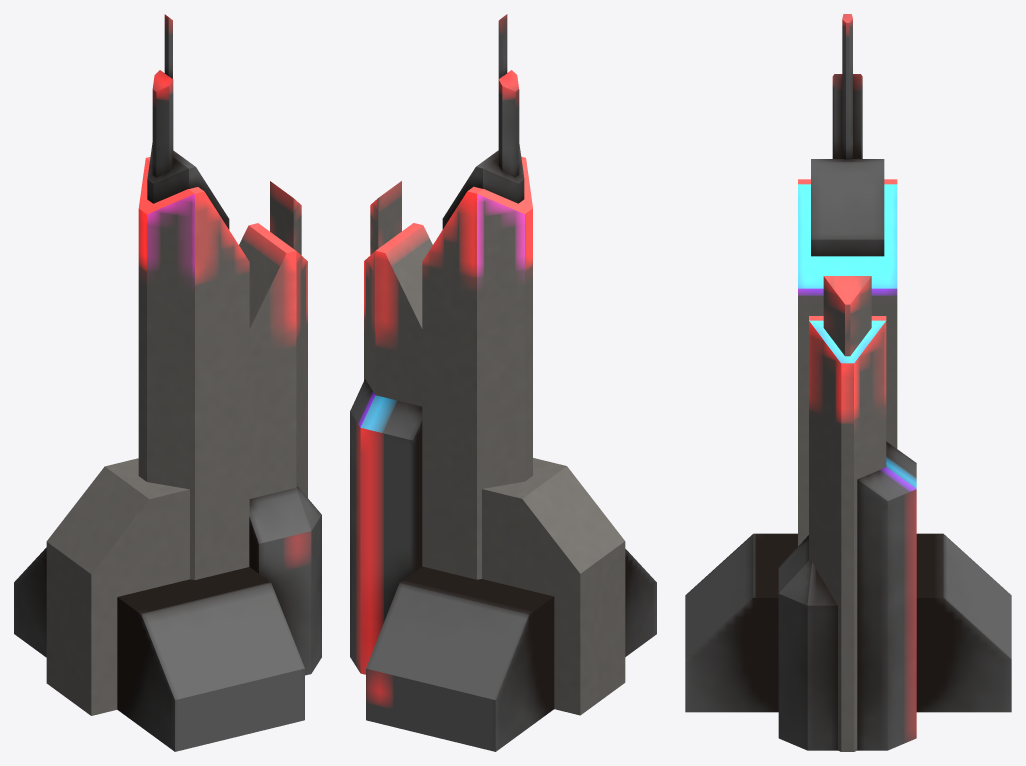
File: SM_BackgroundBuilding_007.fbx
3 renders of one model, left to right at view 1: azimuth 30°, elevation 25°; view 2: azimuth 150°, elevation 25°; view 3: azimuth 270°, elevation 25°, orthographic.
Visible parts, largest first — view 1: SM_BackgroundBuilding_007; view 2: SM_BackgroundBuilding_007; view 3: SM_BackgroundBuilding_007.
Part boxes in pixels (x1=…): SM_BackgroundBuilding_007: x1=14, y1=14, x2=321, y2=751; SM_BackgroundBuilding_007: x1=350, y1=14, x2=656, y2=751; SM_BackgroundBuilding_007: x1=685, y1=14, x2=1011, y2=751.
Bounding box in the file's own units: 815 × 963 × 2180.
Materials: 1 (1 with a texture image).
